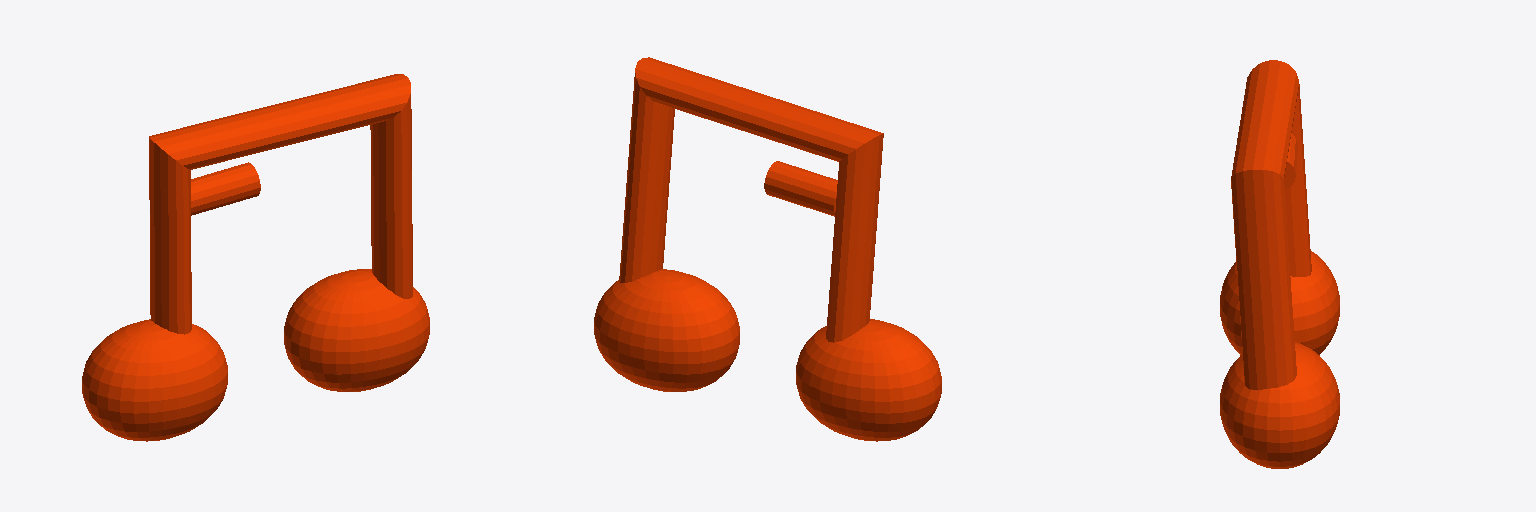
The model's file is music1.obj.
3 views of the same model, side by side, from view 1: azimuth 30°, elevation 25°; view 2: azimuth 150°, elevation 25°; view 3: azimuth 270°, elevation 25° (orthographic).
Parts seen in each view (by area): view 1: ???, ??, ??.1, ???.1; view 2: ???, ??.1, ??, ???.1; view 3: ???, ??.1, ??.
Part boxes in pixels (bbox=[...]): ???: bbox=[149, 74, 412, 334]; ??: bbox=[82, 319, 227, 441]; ??.1: bbox=[284, 269, 429, 391]; ???.1: bbox=[191, 162, 260, 215]; ???: bbox=[619, 57, 883, 342]; ??.1: bbox=[594, 269, 739, 391]; ??: bbox=[796, 319, 941, 441]; ???.1: bbox=[764, 161, 837, 216]; ???: bbox=[1231, 60, 1311, 389]; ??.1: bbox=[1220, 342, 1339, 468]; ??: bbox=[1220, 251, 1339, 354].
Size of the model in its own units: 50.27 by 44.36 by 15.64.